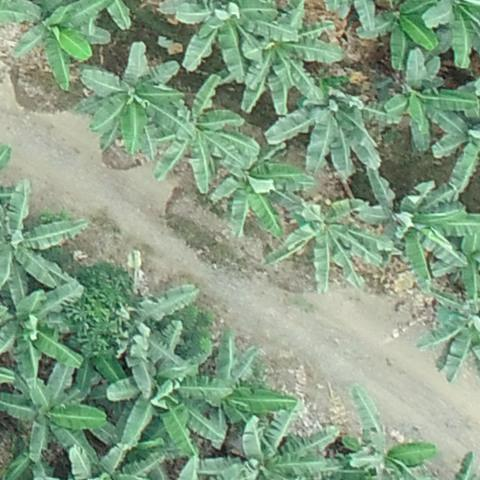Banana-plant: (110, 350, 221, 455), (276, 187, 383, 291), (362, 178, 463, 285), (272, 85, 383, 181), (150, 83, 257, 182), (233, 4, 334, 103), (12, 1, 126, 81), (2, 361, 103, 451), (82, 47, 172, 147), (107, 283, 200, 379), (387, 53, 478, 146), (208, 415, 336, 480), (0, 183, 85, 280), (206, 147, 297, 235), (1, 280, 82, 373), (210, 335, 296, 419), (174, 0, 267, 70), (349, 409, 434, 480), (350, 0, 440, 59), (420, 0, 480, 71)
